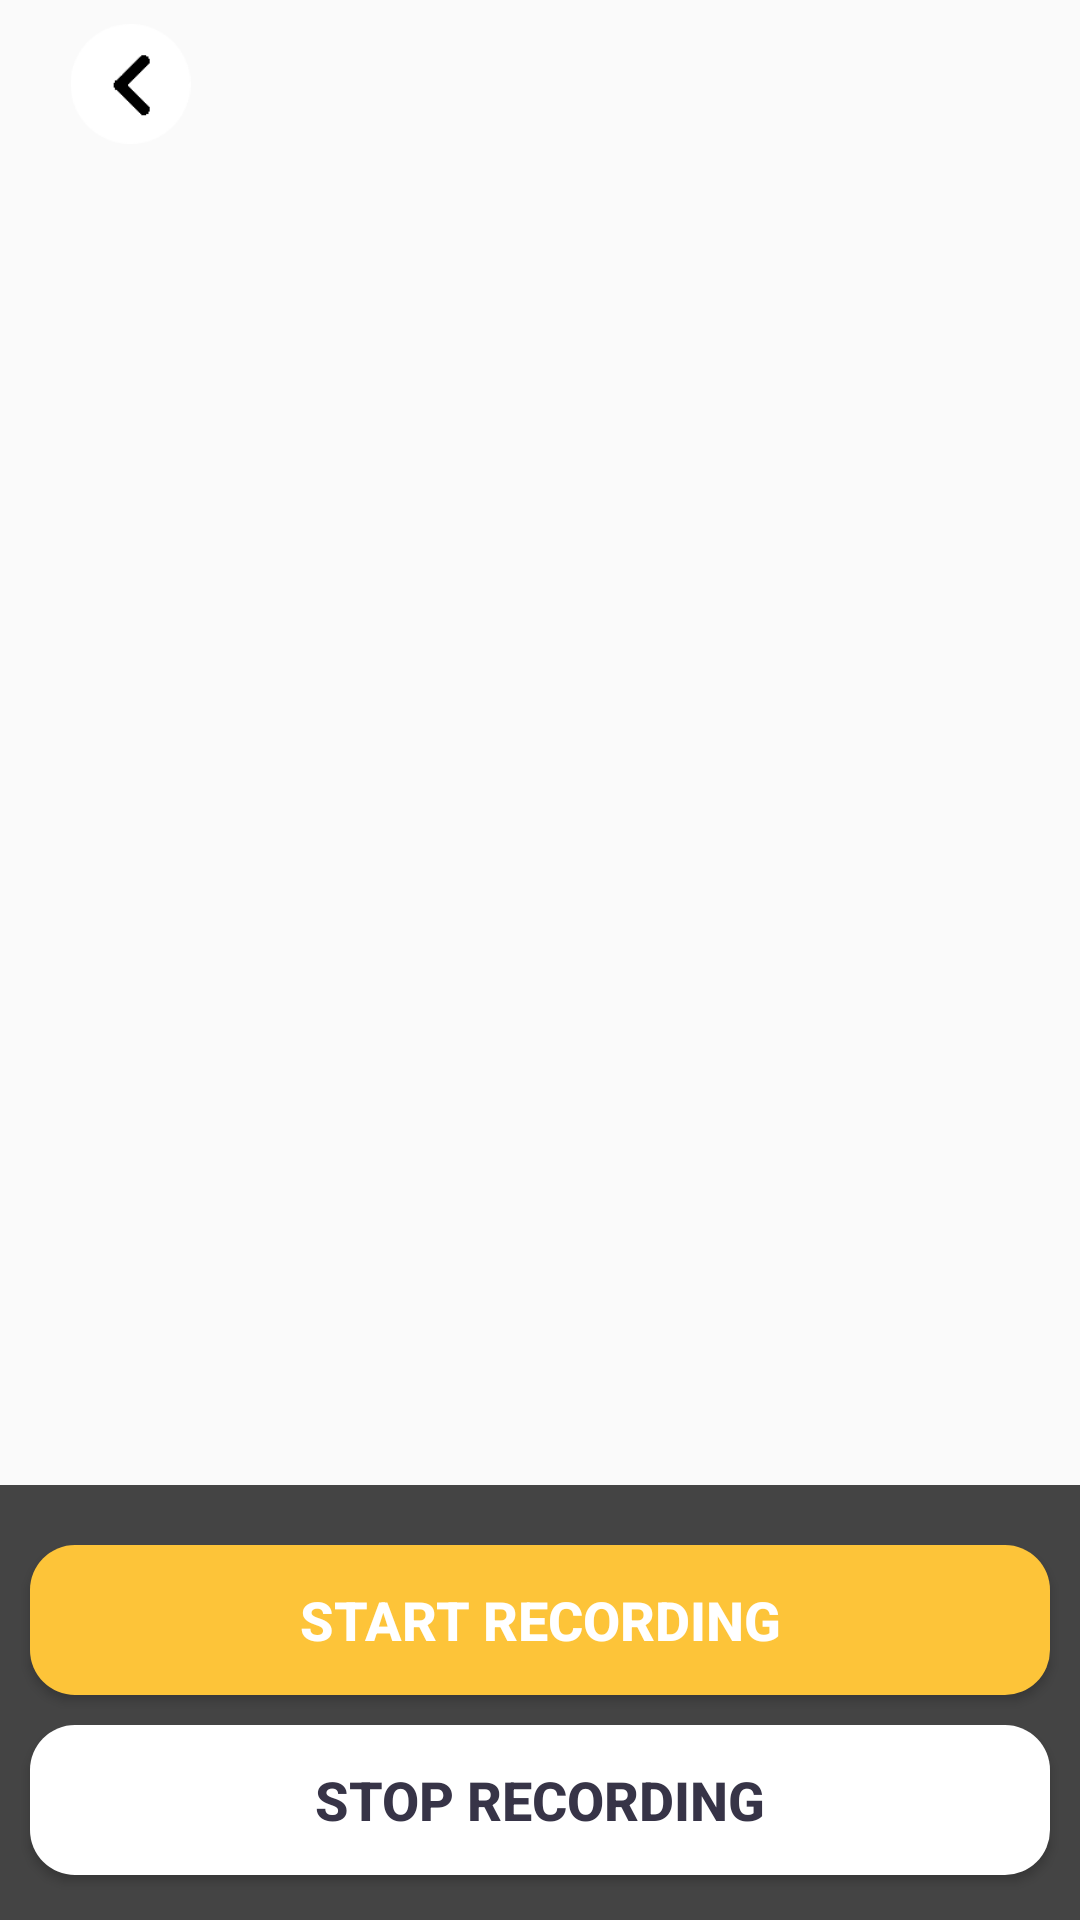

Named icons in this screenshot (1080 × 1920) and their centers, (x,y):
return: (131,85)
